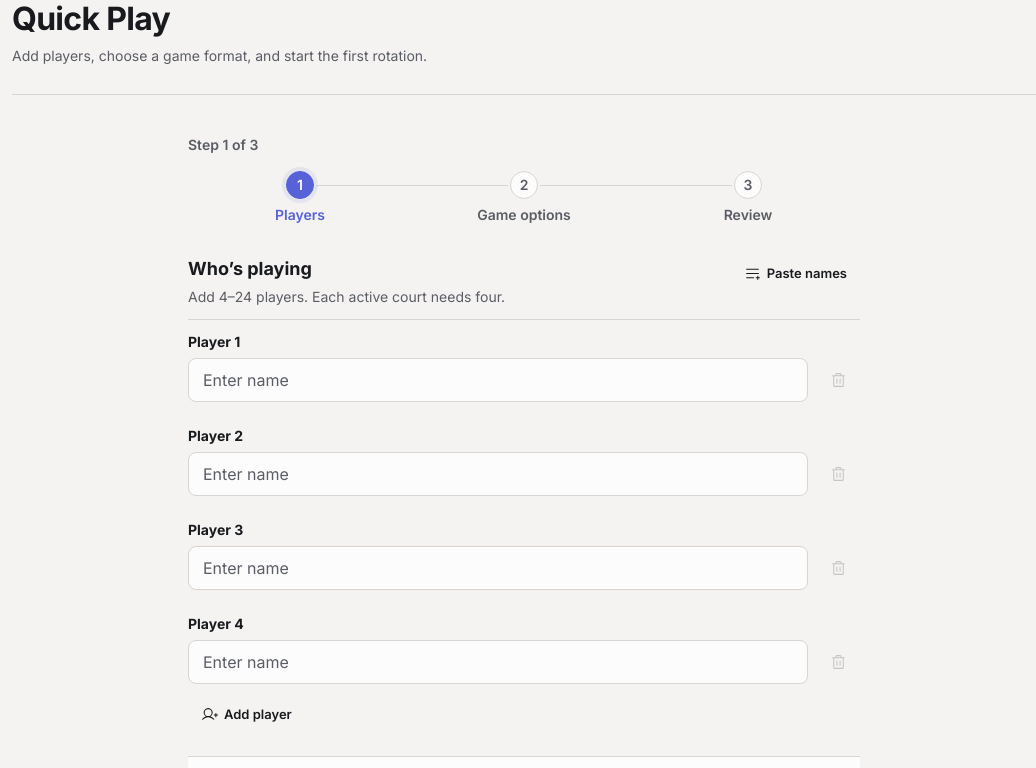
it: PublicQuickPlay › guides setup through Players, Game options, and Review
Expected: the navigation bar named "Quick Play setup progress" reads "Step 1 of 3 1 Players 2 Game options 3 Review", [188,135,860,223]
Type "Van" into the field labelled "Player 1" at (498, 380), box [188,358,808,402]
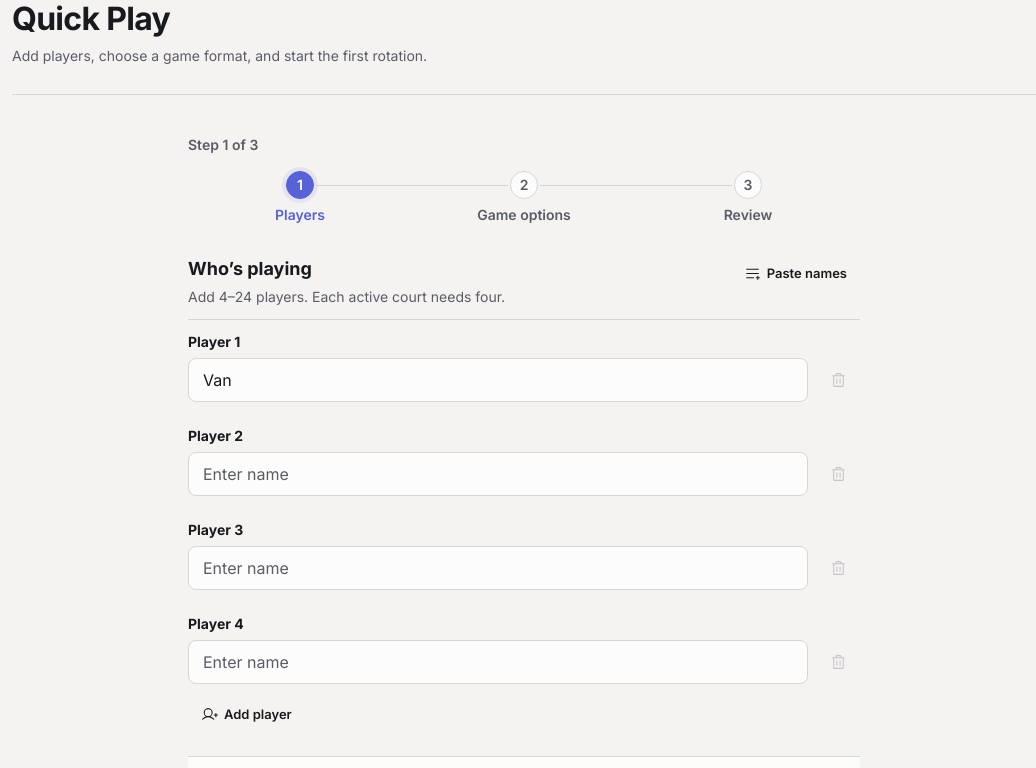
Type "AJ" into the field labelled "Player 2" at (498, 474), box [188,452,808,496]
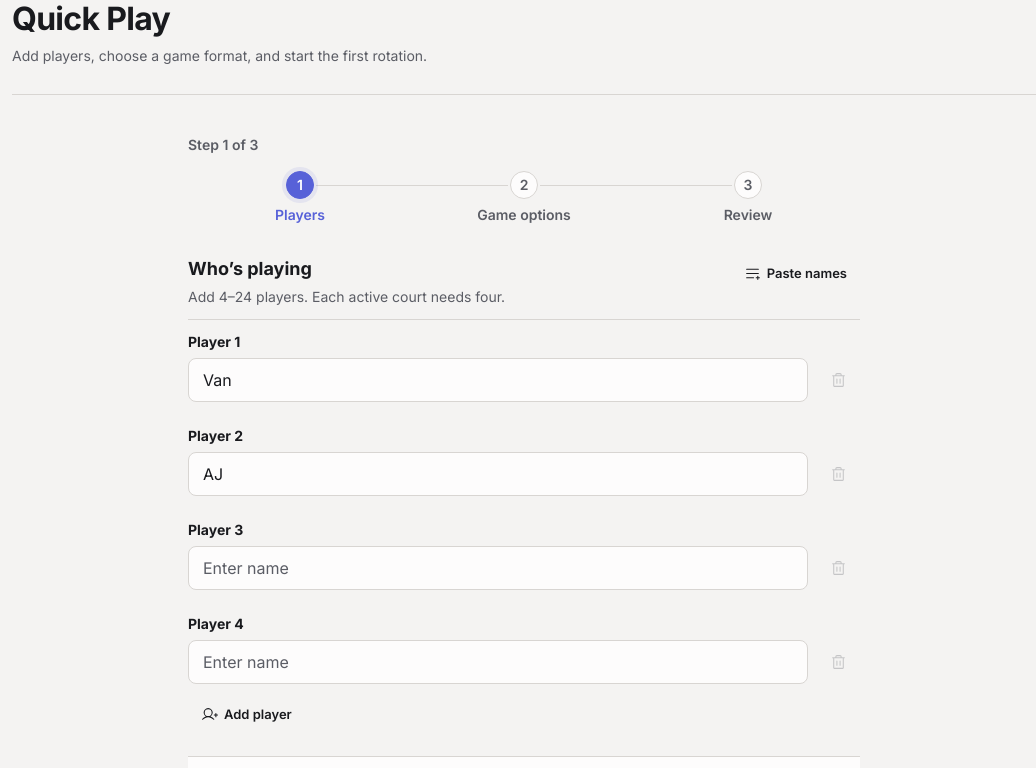
Type "Mika" into the field labelled "Player 3" at (498, 568), box [188,546,808,590]
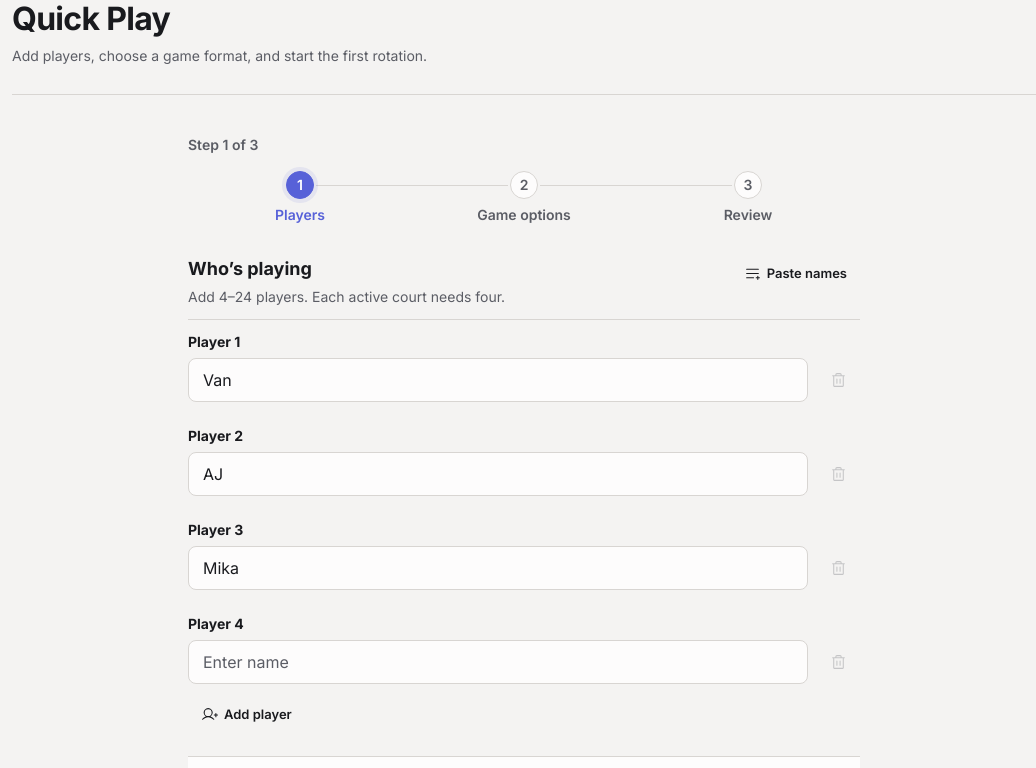
Type "John" into the field labelled "Player 4" at (498, 662), box [188,640,808,684]
(page scrolled)
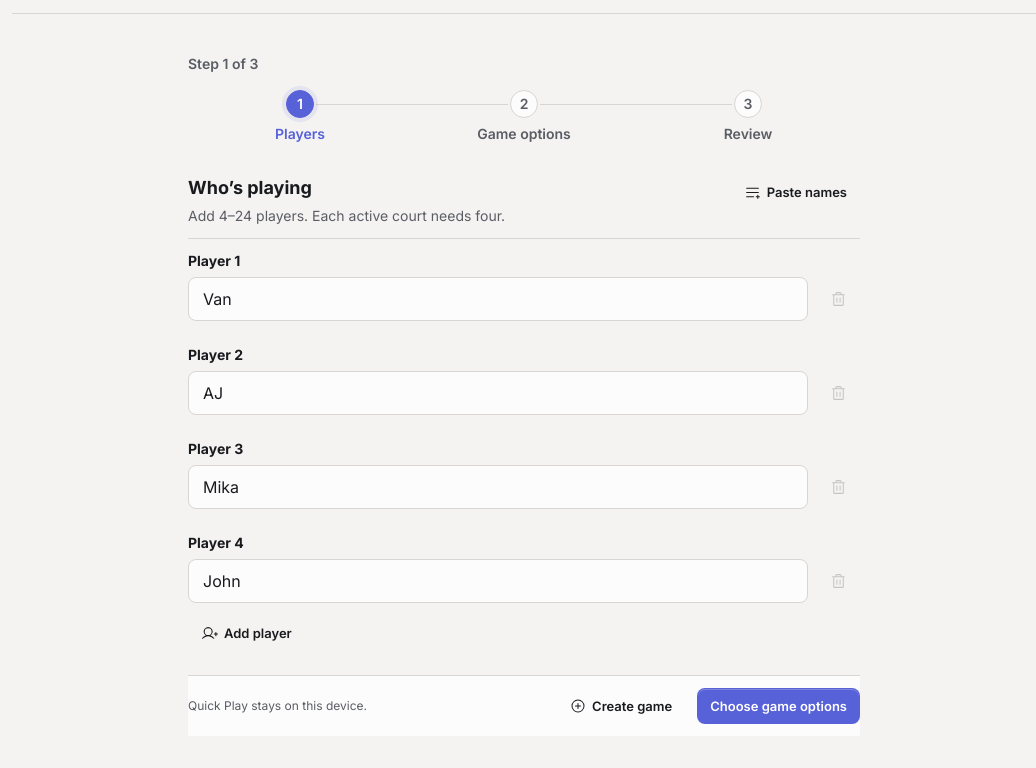
Click the button "Choose game options" at (779, 706), box [697,688,860,724]
(page scrolled)
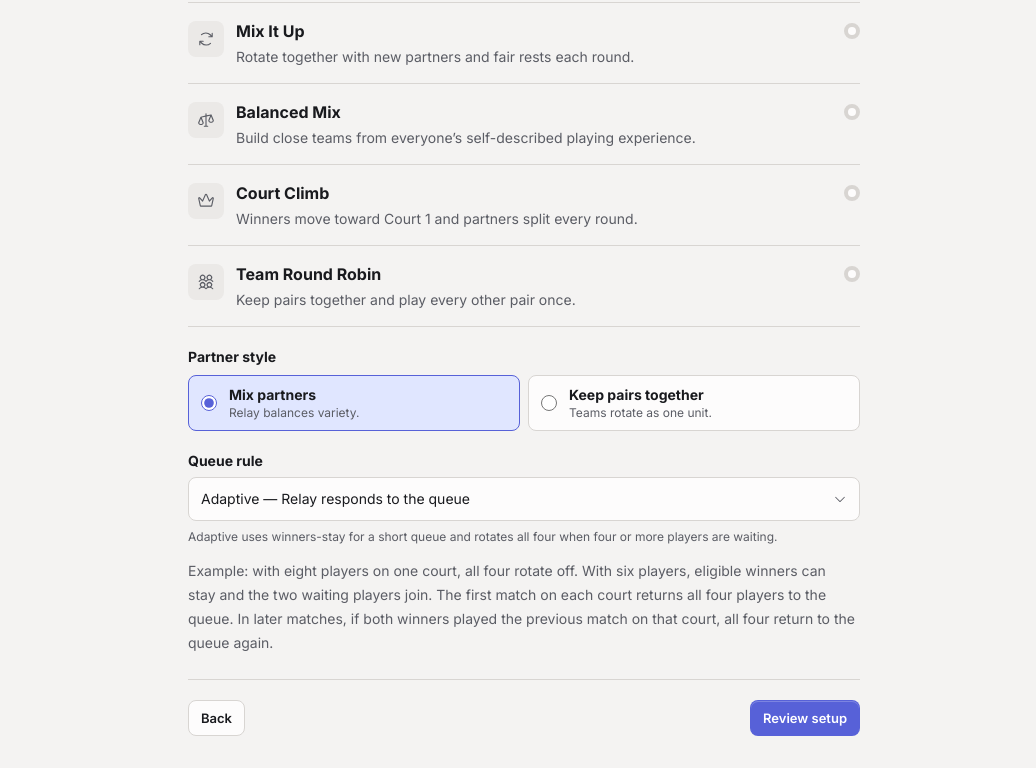
Expected: the text "Quick Play stays on this device." is gone
Expected: the link "Create game" is gone
Click the button "Review setup" at (805, 718), box [750,700,860,736]
(page scrolled)
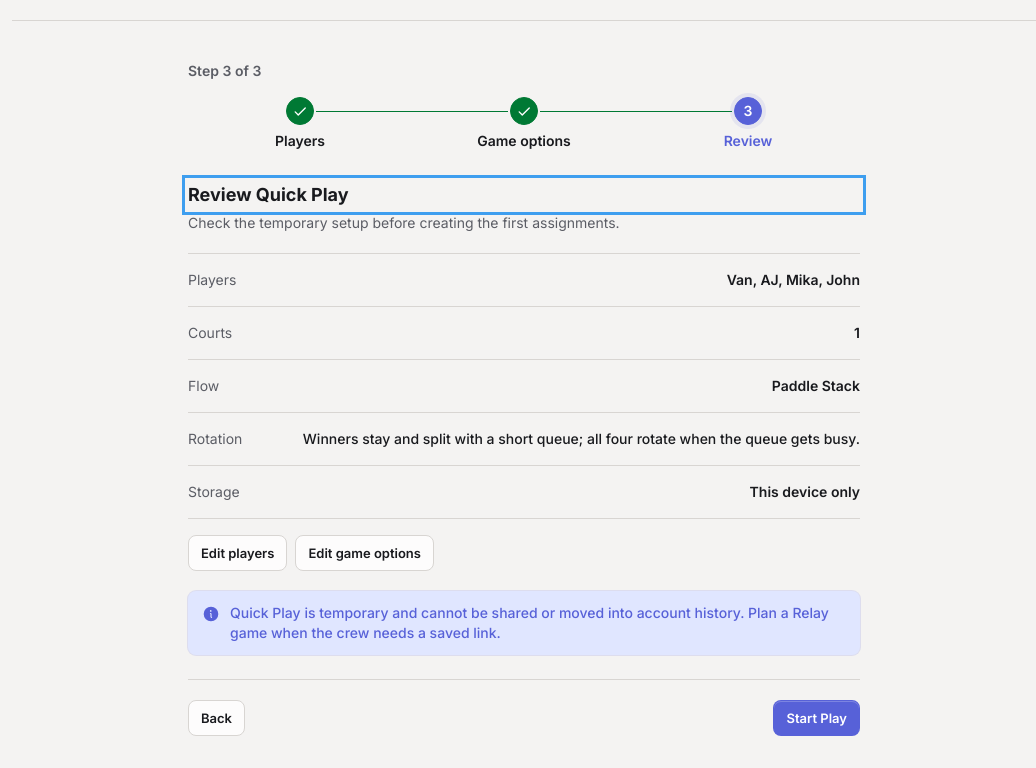
Expected: the text "This device only" is shown, [750,482,860,502]
Expected: the text "cannot be shared or moved into account history" is shown, [230,604,829,641]
